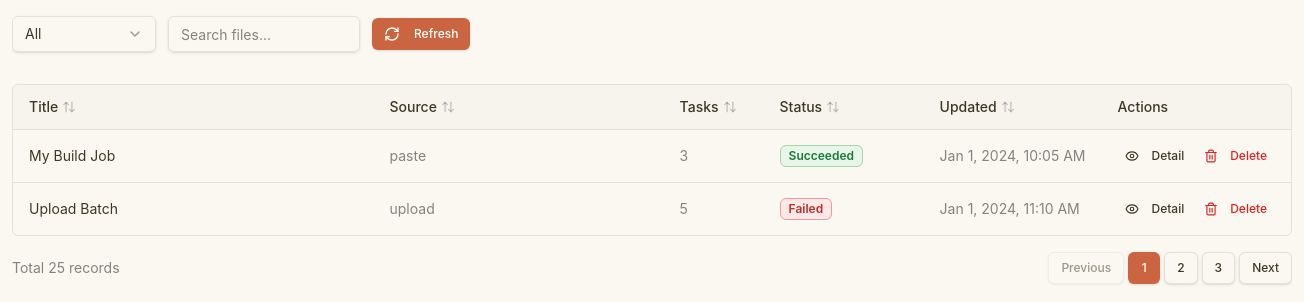
it: BuildJobsTab › pagination › disables the edges of the pager
Expected: the button "Previous" is disabled, top-left (1048, 252), bottom-right (1124, 284)
Click the button "3": (1218, 268) top-left (1202, 252), bottom-right (1235, 284)
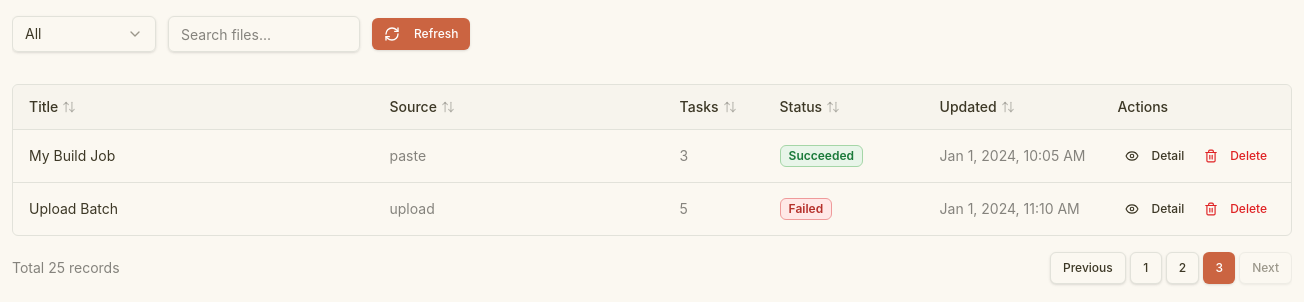
Now the button "Next" is disabled, box top-left (1239, 252), bottom-right (1292, 284)
